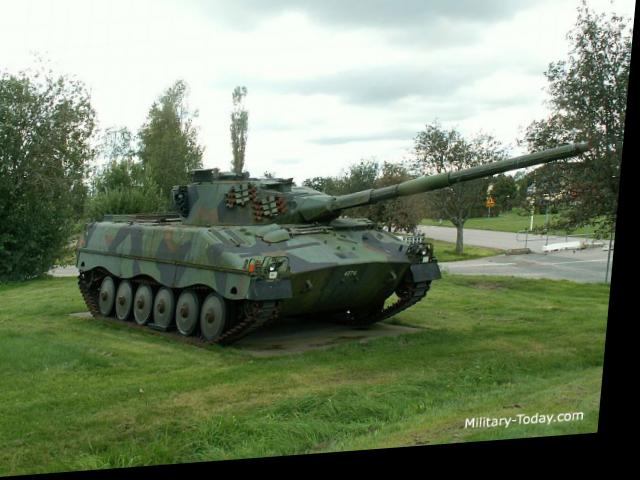tank: (78, 162, 456, 351)
